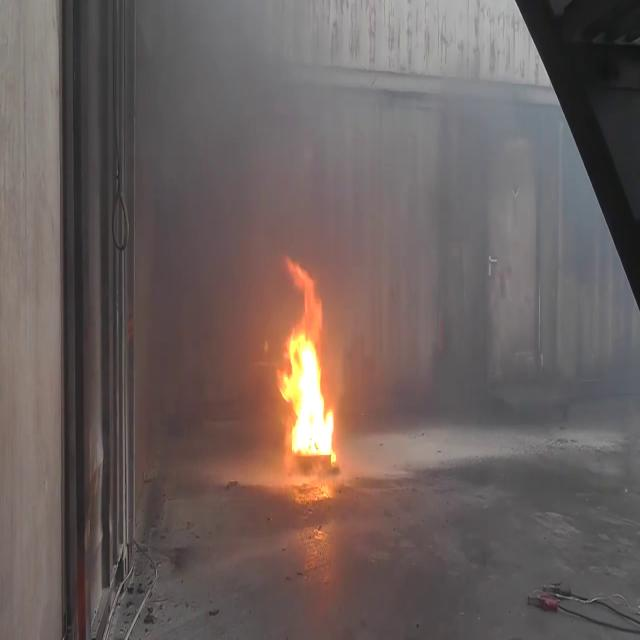Fire: (273, 281, 339, 464)
Smoke: (136, 0, 582, 388)
